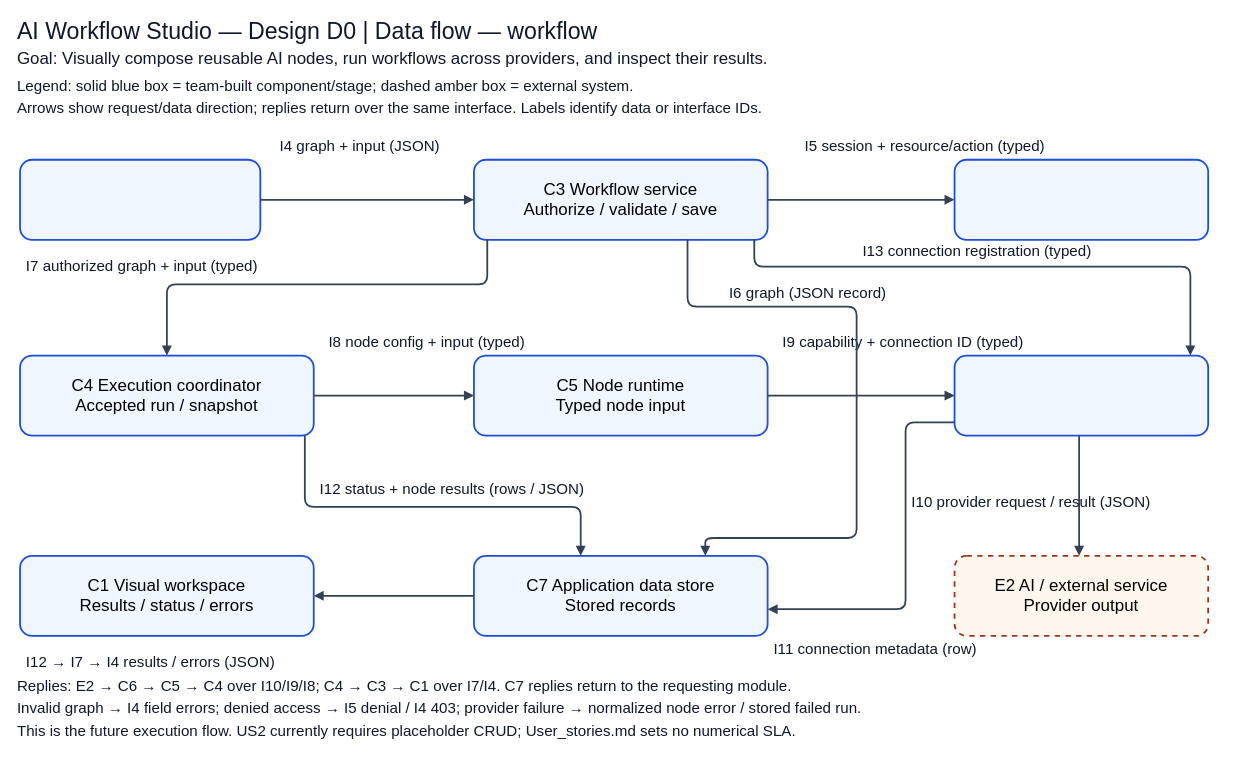
Image size: 1236x757. Some labels were removed from this diagram. The centre of each missing label's shape, as x and y in pixels:
"C1 Visual workspace Graph + text input" goes at (140,199).
"C2 Access service Check scoped permission" goes at (1081,199).
"C6 Provider gateway Scoped provider request" goes at (1081,395).
